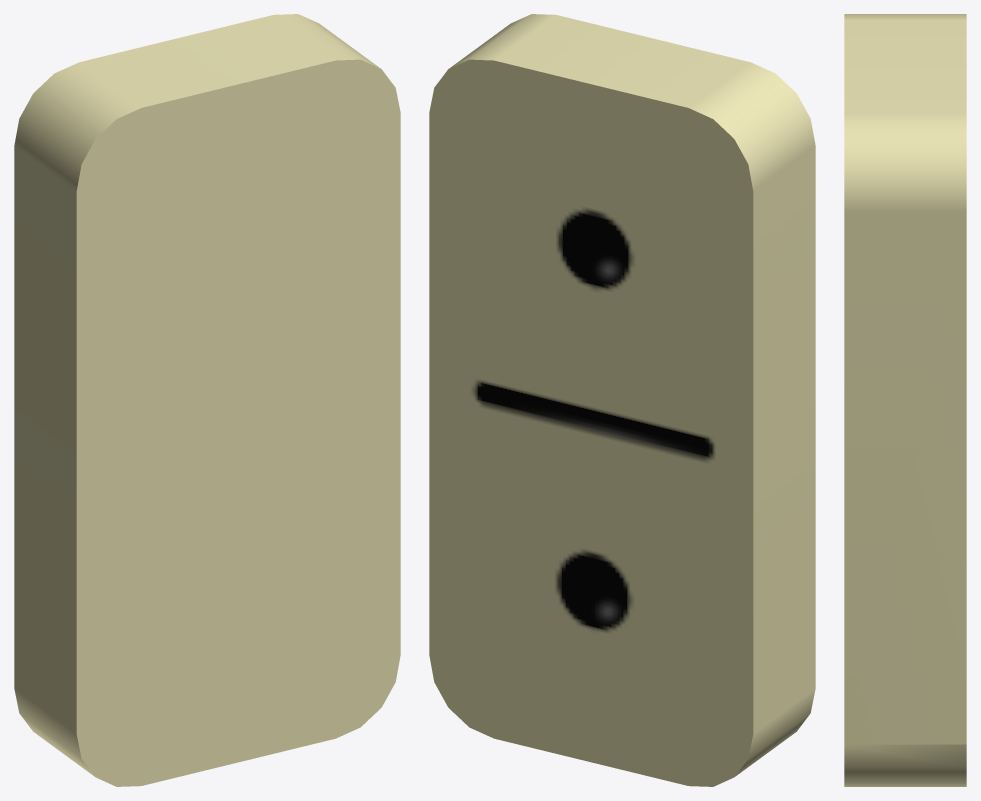
File: domino_1.fbx
The picture shows the model from 3 angles, left to right: view 1: azimuth 30°, elevation 25°; view 2: azimuth 150°, elevation 25°; view 3: azimuth 270°, elevation 25°; orthographic projection.
Parts seen in each view (by area): view 1: Domino; view 2: Domino; view 3: Domino.
Boxes of the visible parts, box(x1,y1,x2,y2) form: Domino: box(14, 14, 400, 786); Domino: box(429, 14, 815, 786); Domino: box(844, 14, 966, 786).
Bounding box in the file's own units: 3 × 6 × 1.
